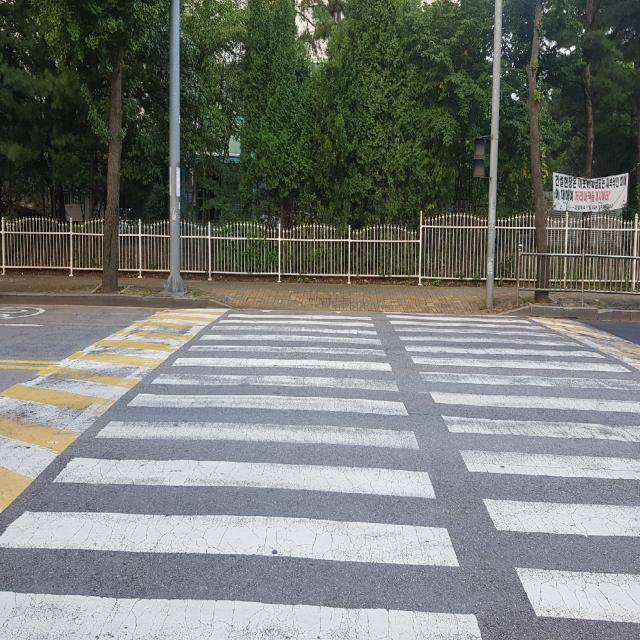횡단보도: (0, 316, 640, 638), (430, 485, 640, 640)
